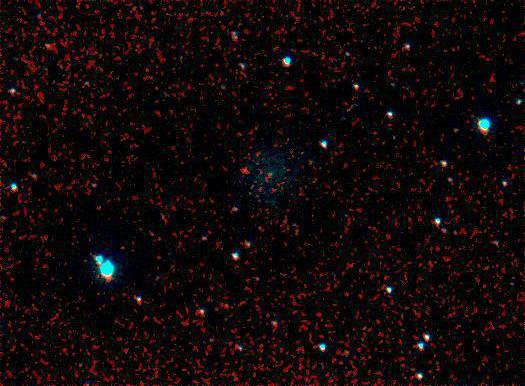star: (230, 155, 260, 185)
